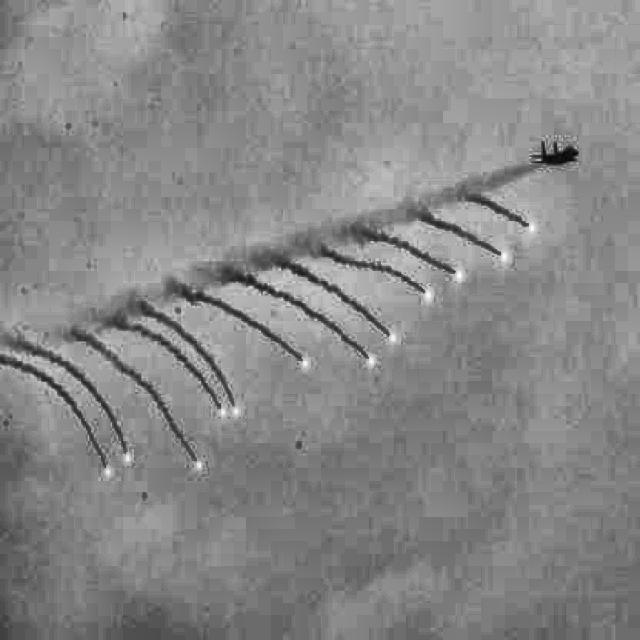F15: (530, 140, 579, 166)
